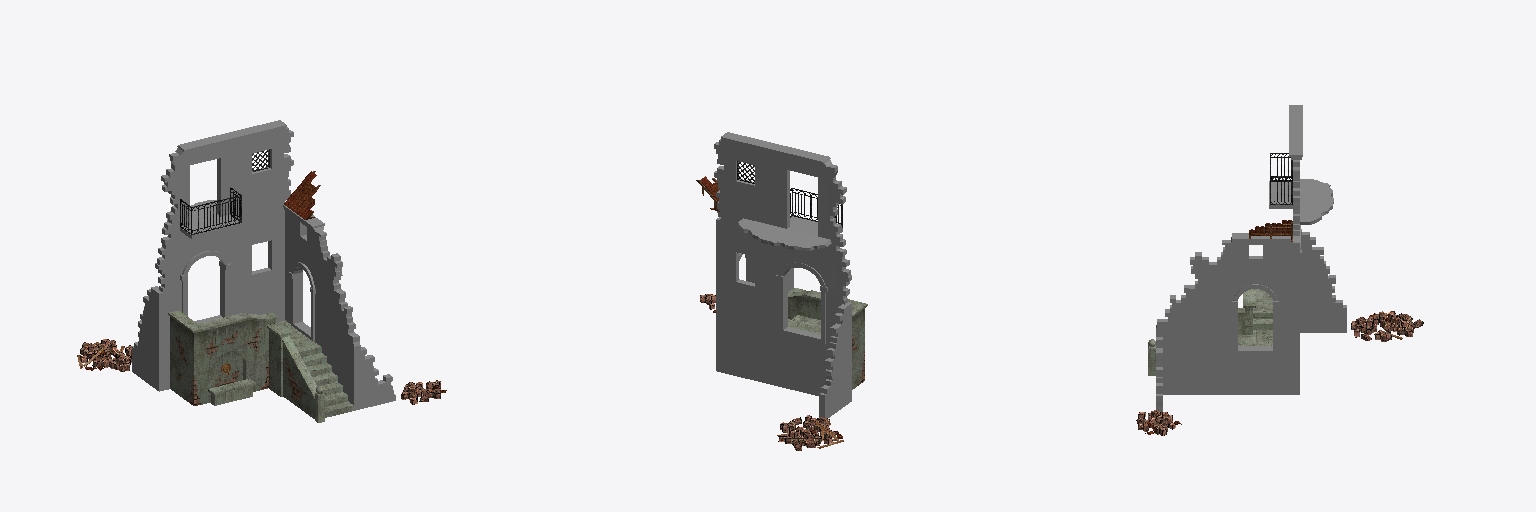
3 renders of one model, left to right at view 1: azimuth 30°, elevation 25°; view 2: azimuth 150°, elevation 25°; view 3: azimuth 270°, elevation 25°, orthographic.
Parts seen in each view (by area): view 1: Ruins_Main_01, Ruins_Steps, Ruins_Main_02, Rubble_01, Balcony_Rail, Roof_Tiles, Rubble_02; view 2: Ruins_Main_01, Ruins_Steps, Rubble_01, Balcony_Rail; view 3: Ruins_Main_02, Ruins_Main_01, Ruins_Steps, Rubble_01, Rubble_02, Roof_Tiles.
Part boxes in pixels (x1,y1,x2,y2): Ruins_Main_01: (132,120,293,391); Ruins_Steps: (168,310,353,422); Ruins_Main_02: (283,204,395,410); Rubble_01: (77,339,131,371); Balcony_Rail: (180,149,269,234); Roof_Tiles: (284,171,320,219); Rubble_02: (401,380,446,404); Ruins_Main_01: (714,132,851,417); Ruins_Steps: (788,288,867,389); Rubble_01: (777,415,843,450); Balcony_Rail: (737,161,842,227); Ruins_Main_02: (1156,233,1292,411); Ruins_Main_01: (1269,105,1346,394); Ruins_Steps: (1148,289,1272,375); Rubble_01: (1351,311,1423,341); Rubble_02: (1136,410,1181,435); Roof_Tiles: (1249,220,1292,241).
Bounding box in the file's own units: 917 × 823 × 903.
8 materials, 6 textured.